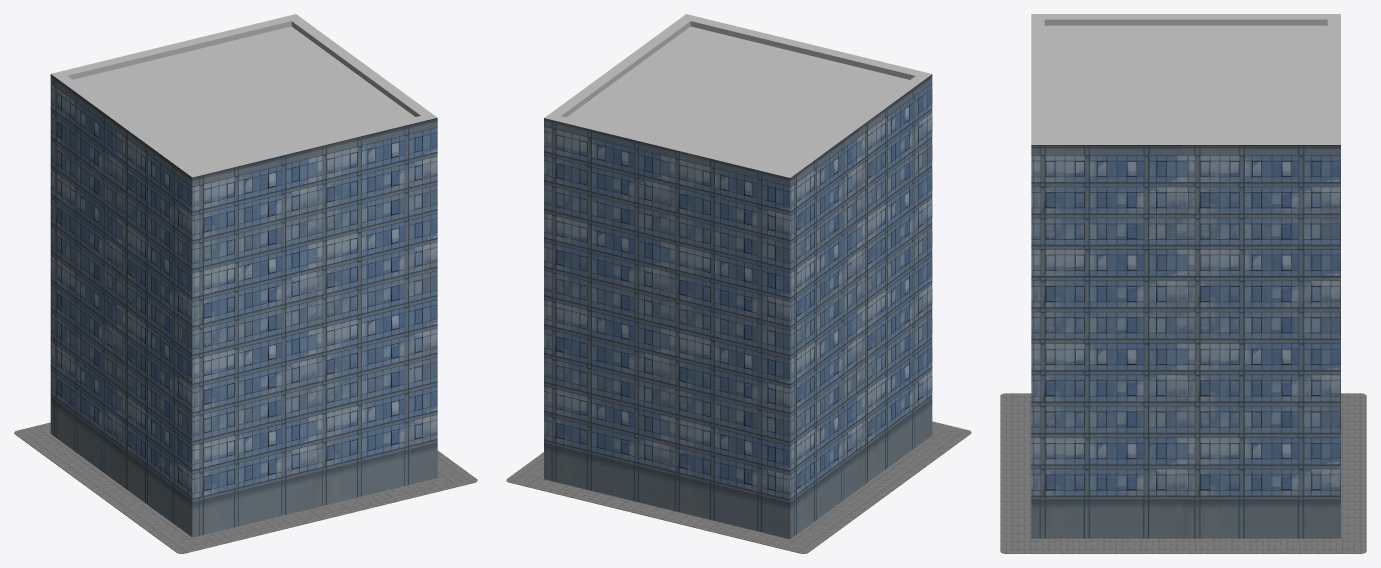
Rendered from Building 5.FBX.
3 views of the same model, side by side, from view 1: azimuth 30°, elevation 25°; view 2: azimuth 150°, elevation 25°; view 3: azimuth 270°, elevation 25° (orthographic). The views are drawn at different scales.
Visible parts, largest first — view 1: Building 5; view 2: Building 5; view 3: Building 5.
Boxes of the visible parts, box(x1,y1,x2,y2) form: Building 5: box(14, 14, 477, 553); Building 5: box(506, 14, 971, 553); Building 5: box(1000, 14, 1366, 553).
Bounding box in the file's own units: 42846 × 49120 × 41408.
Materials: 2 (2 with a texture image).
